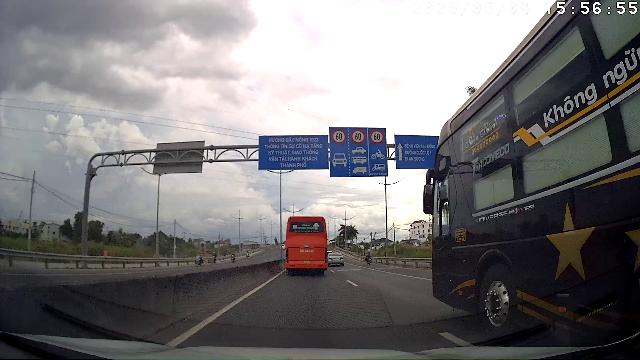127-toc-do-toi-da-60: (350, 128, 366, 145), (331, 128, 347, 144), (369, 129, 384, 144)
